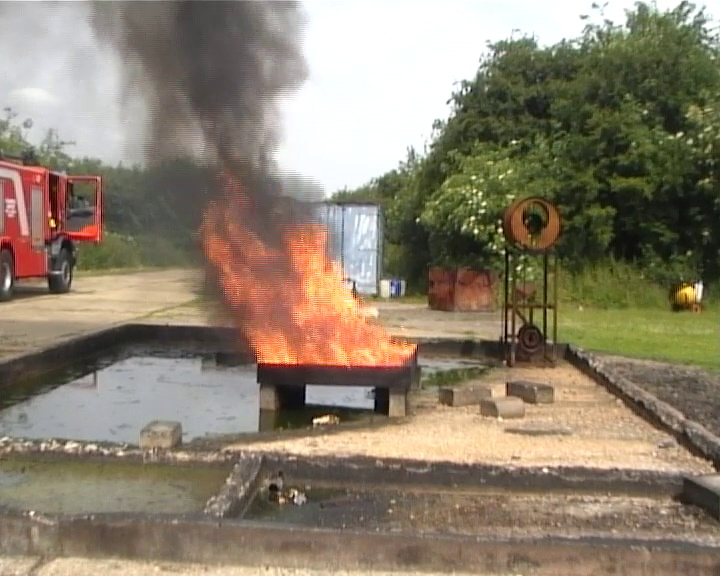fire: (213, 227, 405, 364)
